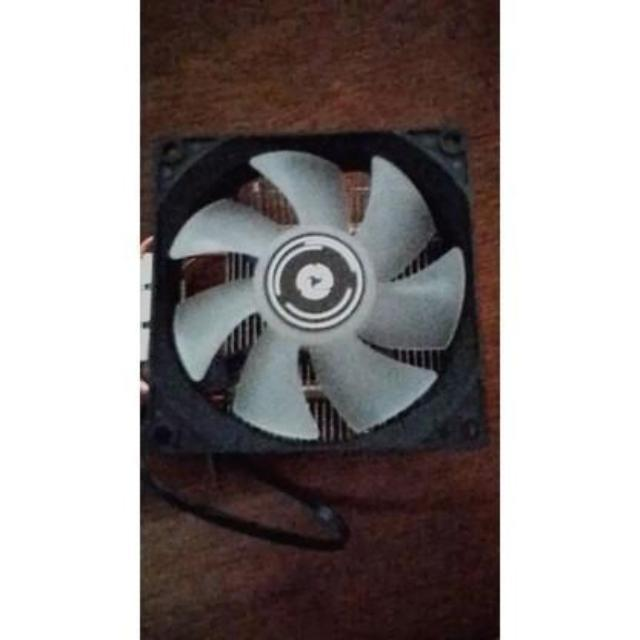CPU_Fan: (134, 131, 488, 469)
